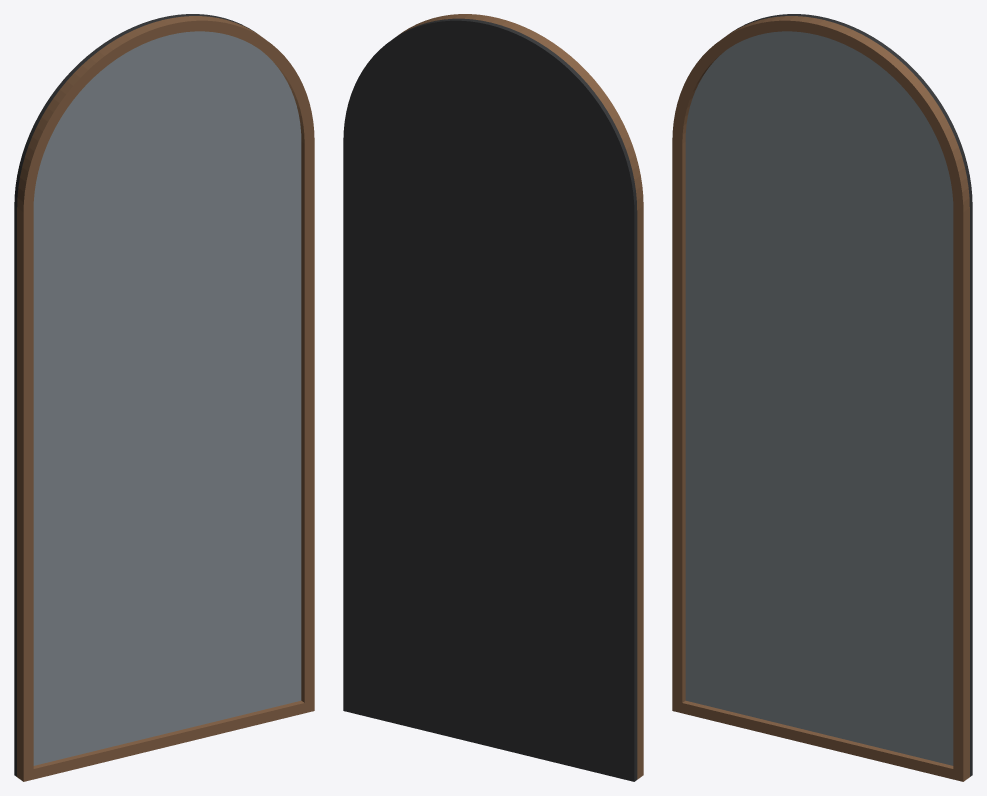
File: attempt-1-arch.glb
The picture shows the model from 3 angles, left to right: view 1: azimuth 30°, elevation 25°; view 2: azimuth 150°, elevation 25°; view 3: azimuth 330°, elevation 25°; orthographic projection.
Visible parts, largest first — view 1: mirror-surface, mirror-frame, mirror-back; view 2: mirror-back, mirror-frame; view 3: mirror-surface, mirror-frame, mirror-back.
Part boxes in pixels (x1,y1,x2,y2): mirror-surface: (33, 31, 301, 765); mirror-frame: (17, 16, 314, 781); mirror-back: (14, 14, 255, 776); mirror-back: (343, 18, 637, 781); mirror-frame: (398, 14, 643, 779); mirror-surface: (685, 31, 953, 765); mirror-frame: (672, 16, 969, 781); mirror-back: (731, 14, 972, 776).
Bounding box in the file's own units: 0.73 × 1.73 × 0.04.
